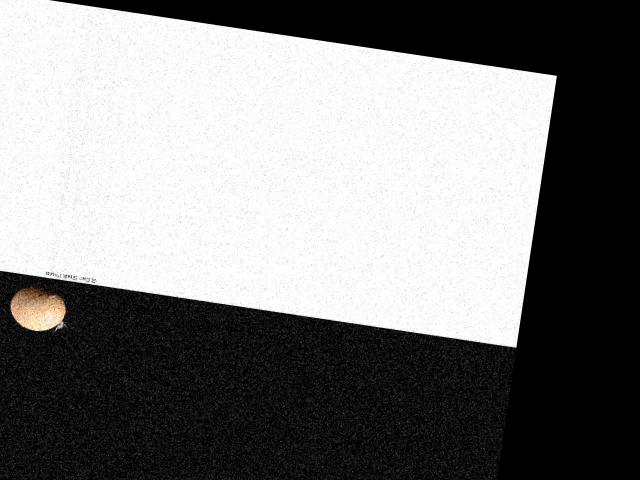egg: (6, 282, 68, 333)
